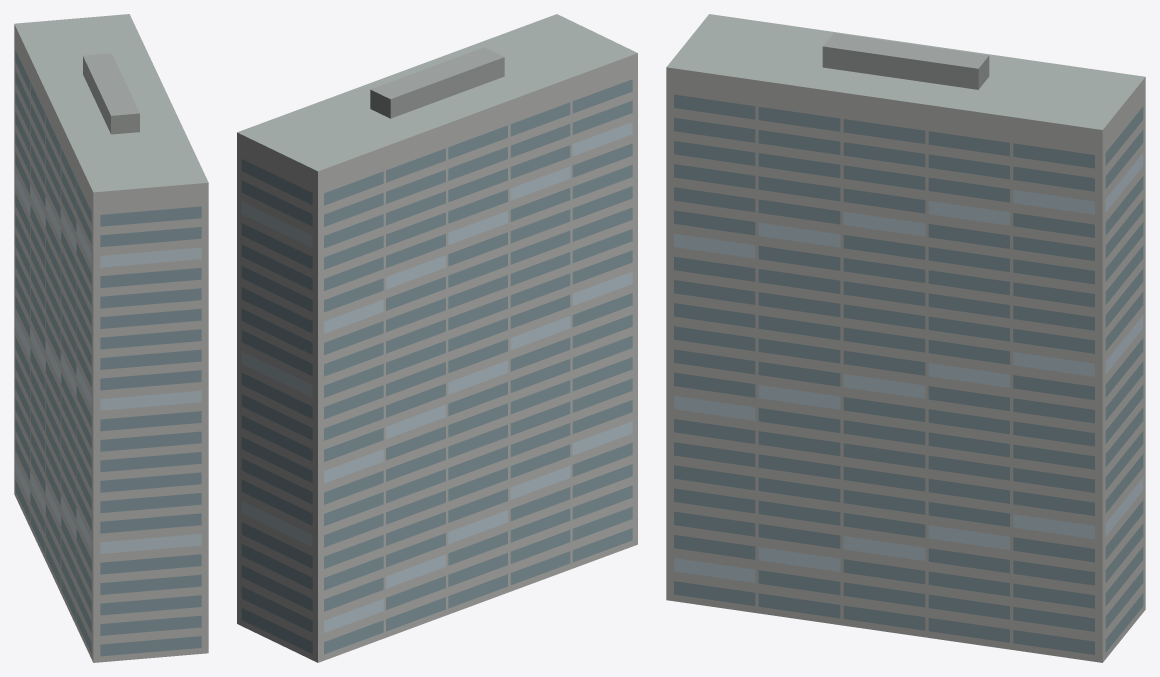
Rendered from fallback-jamsil-els-137.glb.
The picture shows the model from 3 angles, left to right: view 1: azimuth 30°, elevation 25°; view 2: azimuth 150°, elevation 25°; view 3: azimuth 270°, elevation 25°; orthographic projection. The views are drawn at different scales.
Parts seen in each view (by area): view 1: fallback-jamsil-els-137; view 2: fallback-jamsil-els-137; view 3: fallback-jamsil-els-137.
Part boxes in pixels (bbox=[...]): fallback-jamsil-els-137: bbox=[14, 14, 208, 662]; fallback-jamsil-els-137: bbox=[237, 14, 637, 662]; fallback-jamsil-els-137: bbox=[666, 14, 1145, 662].
Size of the model in its own units: 28.31 by 63 by 49.39.
